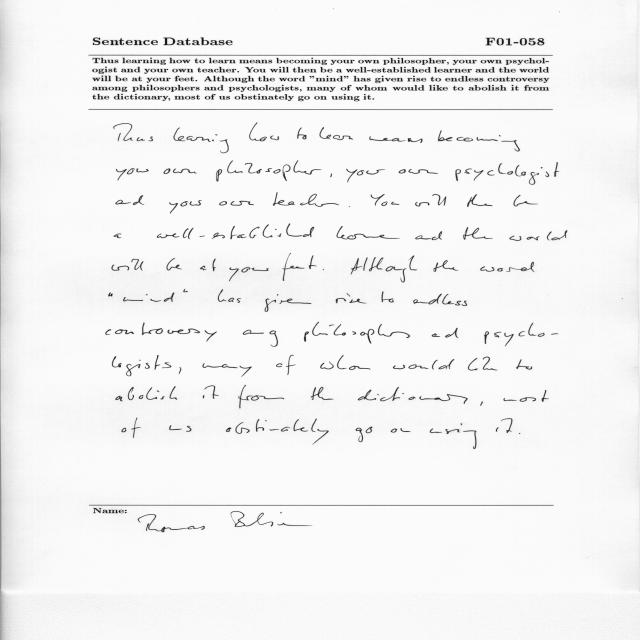word: (226, 419, 329, 445), (456, 162, 560, 185), (157, 224, 314, 239), (304, 322, 410, 344), (216, 161, 322, 182), (106, 323, 217, 342), (358, 387, 468, 404), (351, 256, 417, 283), (438, 131, 520, 152), (484, 323, 558, 346), (174, 128, 229, 153), (113, 355, 172, 376), (430, 423, 476, 449), (238, 386, 284, 409), (273, 192, 339, 207), (282, 253, 317, 281), (116, 387, 177, 402), (336, 226, 400, 239), (265, 294, 311, 312), (320, 355, 371, 370), (114, 123, 153, 141), (202, 363, 252, 377), (393, 359, 454, 370), (413, 294, 467, 306), (510, 230, 568, 241), (243, 330, 278, 347), (229, 267, 269, 281), (503, 390, 549, 402), (249, 123, 279, 141), (481, 262, 535, 272), (346, 169, 385, 182), (123, 293, 175, 302), (169, 200, 202, 214), (320, 127, 353, 140), (116, 168, 149, 181), (468, 357, 497, 371), (416, 194, 447, 207), (276, 355, 296, 375), (463, 227, 493, 240), (112, 259, 144, 271), (122, 418, 141, 438), (369, 136, 423, 143), (467, 194, 493, 207), (371, 194, 399, 206), (218, 289, 241, 303), (336, 294, 367, 304), (434, 260, 458, 272), (311, 387, 333, 400), (116, 195, 144, 205), (514, 195, 538, 206), (432, 328, 458, 338), (356, 427, 373, 442), (415, 231, 442, 240), (496, 418, 512, 433), (203, 385, 219, 399), (163, 168, 197, 174), (399, 169, 438, 174), (167, 258, 182, 271), (200, 259, 216, 271), (516, 359, 532, 370), (219, 201, 254, 206), (169, 425, 192, 432), (382, 292, 394, 303), (297, 128, 307, 139), (391, 428, 411, 433), (114, 234, 121, 238), (109, 293, 113, 297), (183, 290, 188, 293), (179, 367, 181, 374), (480, 402, 483, 406), (330, 174, 332, 178), (349, 206, 350, 207), (323, 269, 324, 270), (519, 433, 520, 434)
